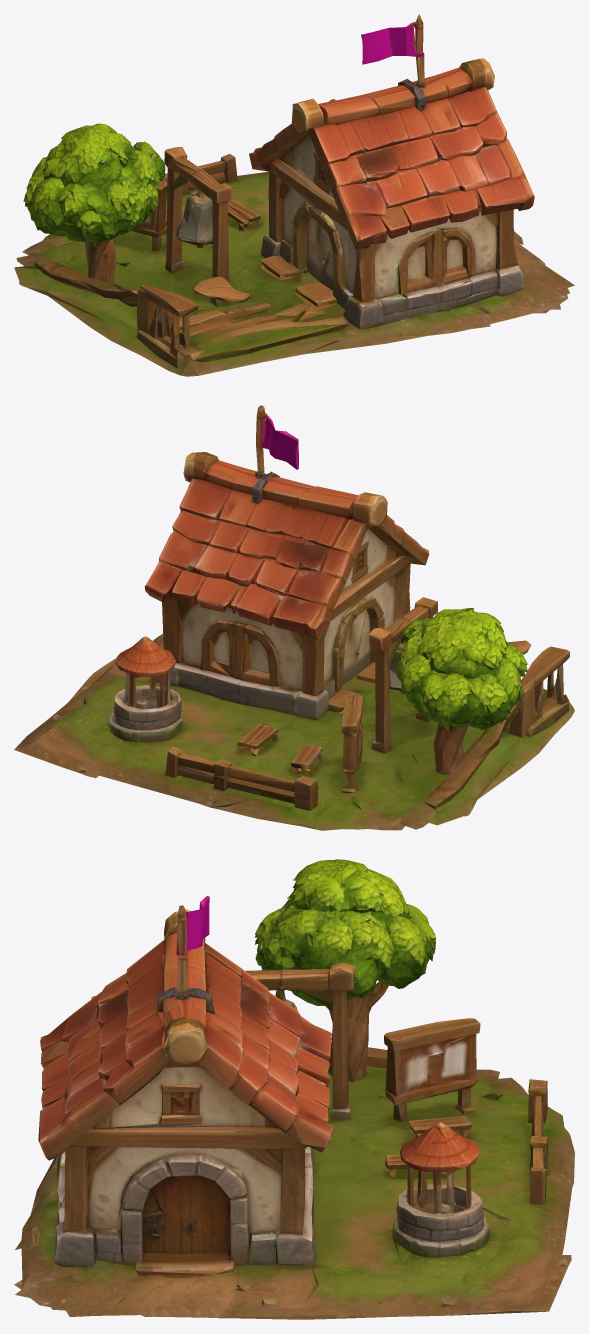
Rendered from village.glb.
3 views of the same model, one above another, from view 1: azimuth 30°, elevation 25°; view 2: azimuth 150°, elevation 25°; view 3: azimuth 270°, elevation 25° (orthographic). The views are drawn at different scales.
Parts seen in each view (by area): view 1: Mesh_0; view 2: Mesh_0; view 3: Mesh_0.
Boxes of the visible parts, bbox=[...] form: Mesh_0: bbox=[14, 14, 574, 376]; Mesh_0: bbox=[14, 405, 574, 830]; Mesh_0: bbox=[14, 859, 574, 1319].
Size of the model in its own units: 1.89 by 1.09 by 1.61.
1 material, 1 textured.
